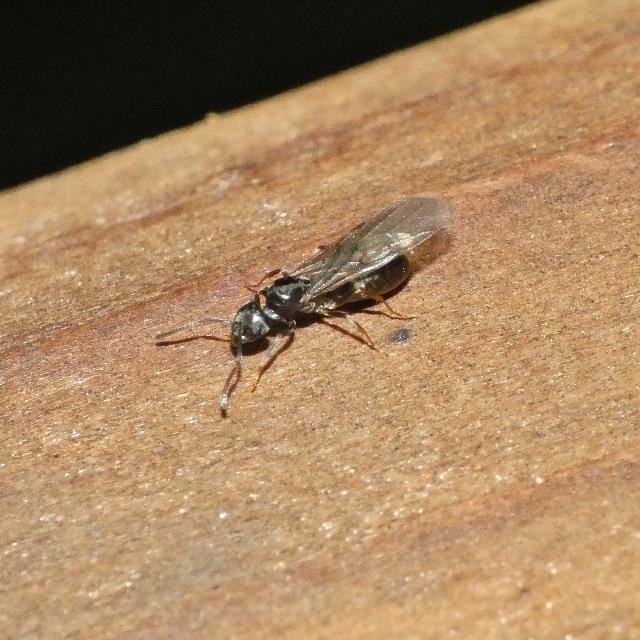Tapinoma: (178, 187, 456, 399)
